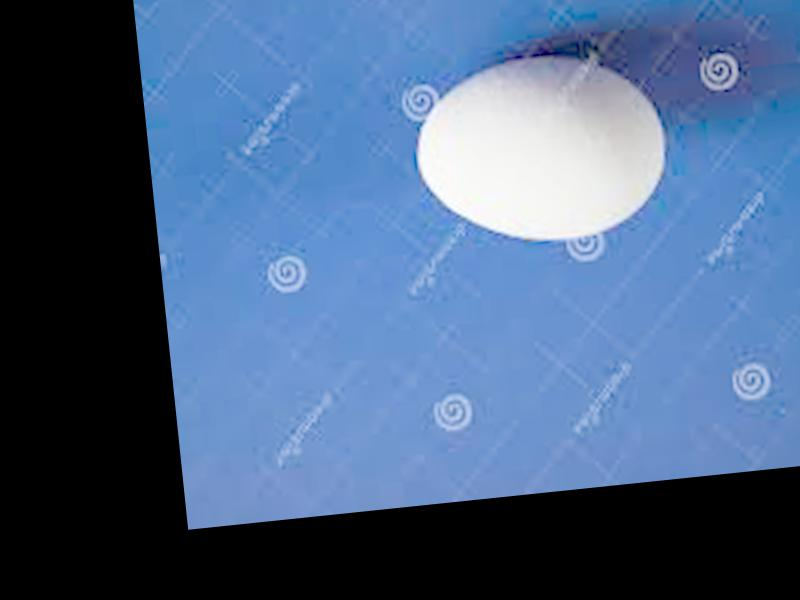Eggs: (408, 44, 674, 251)
